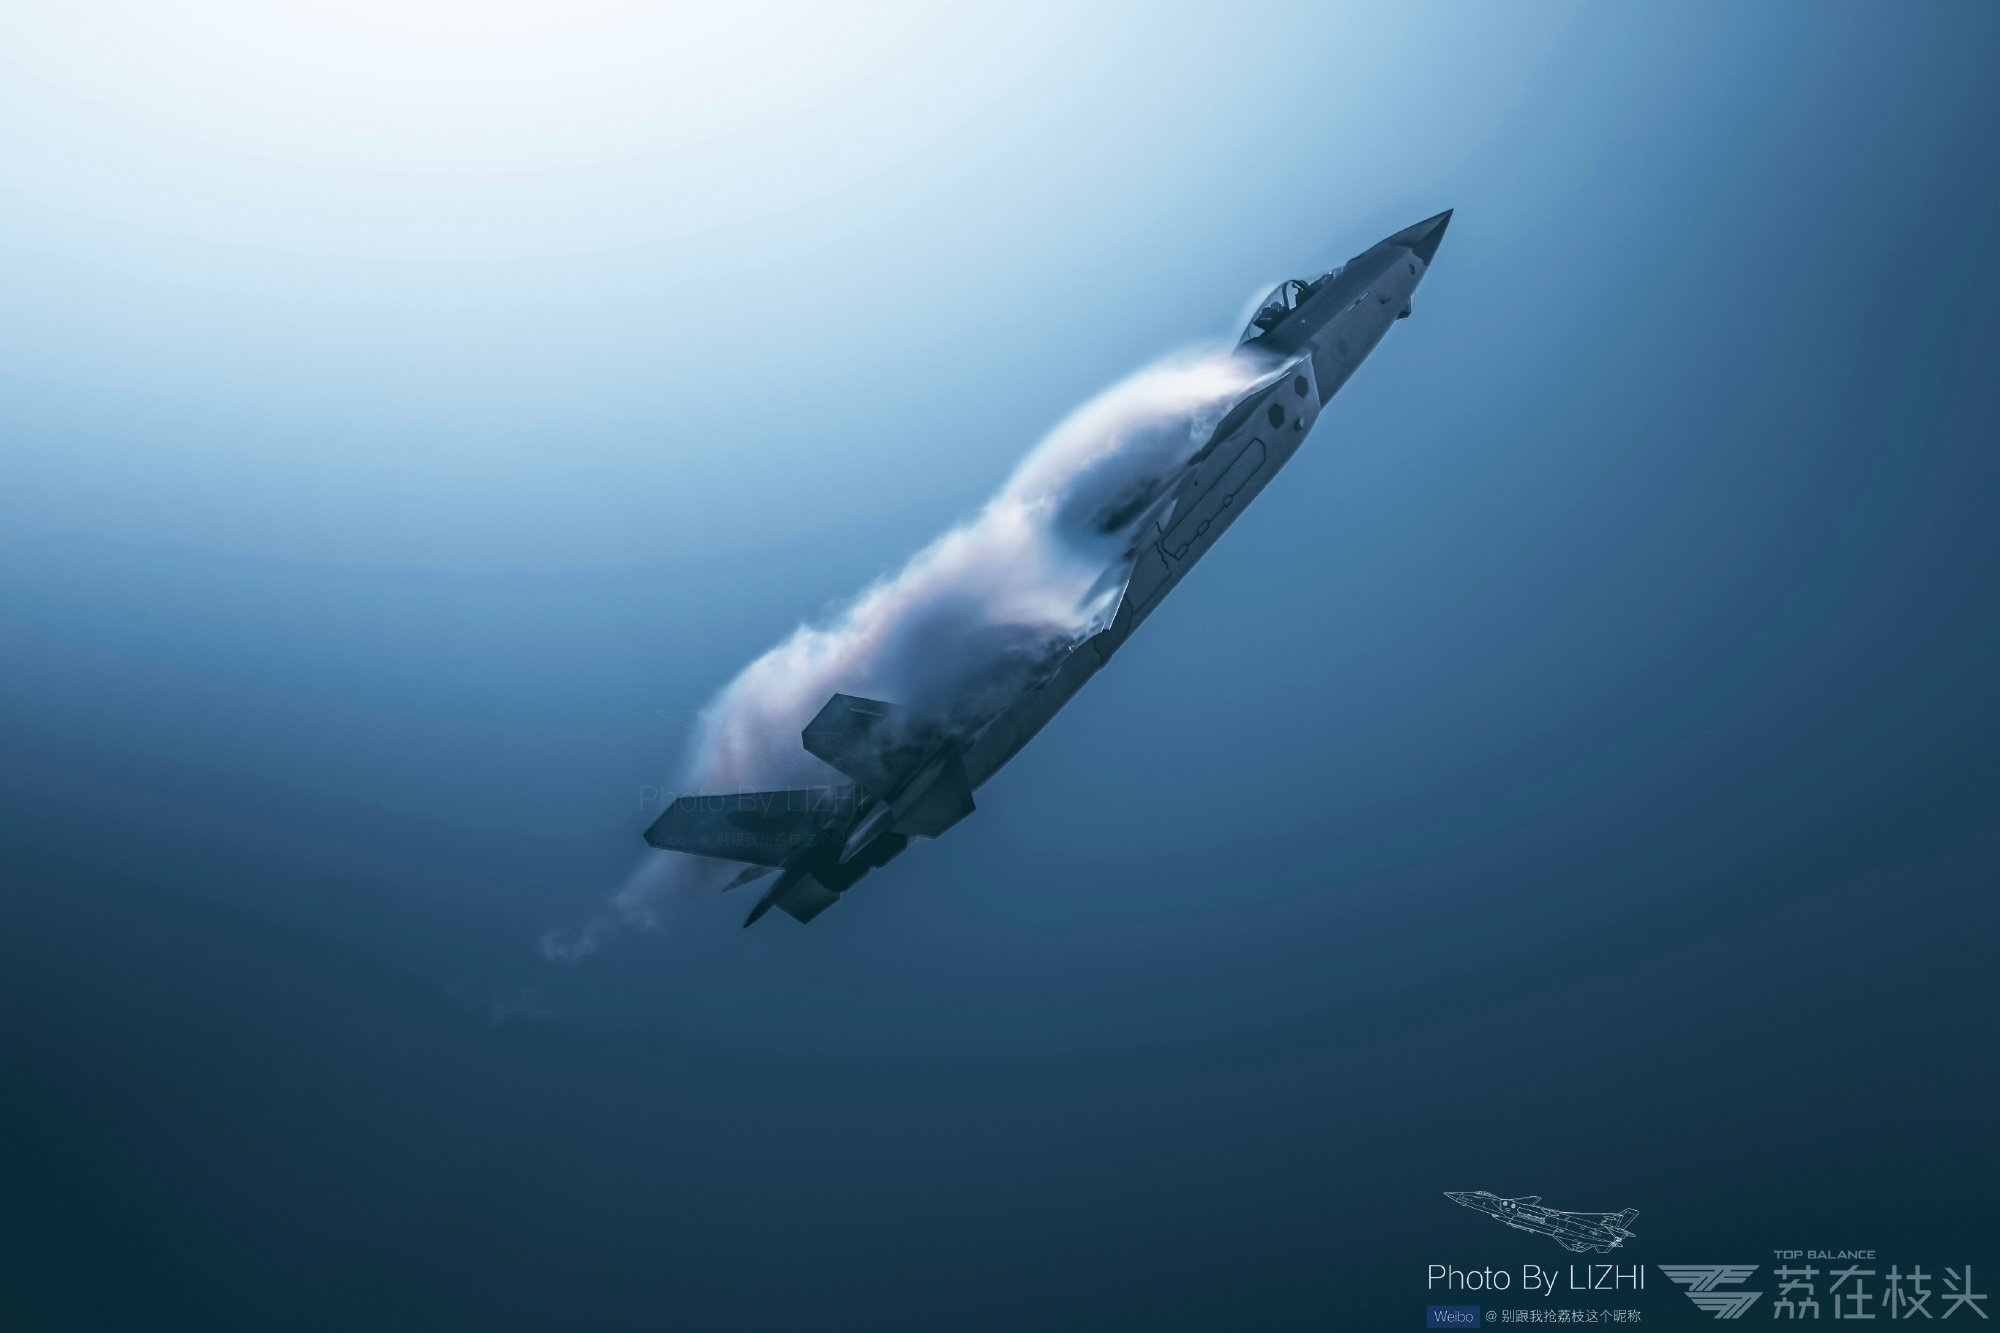J20: (641, 205, 1454, 928)
